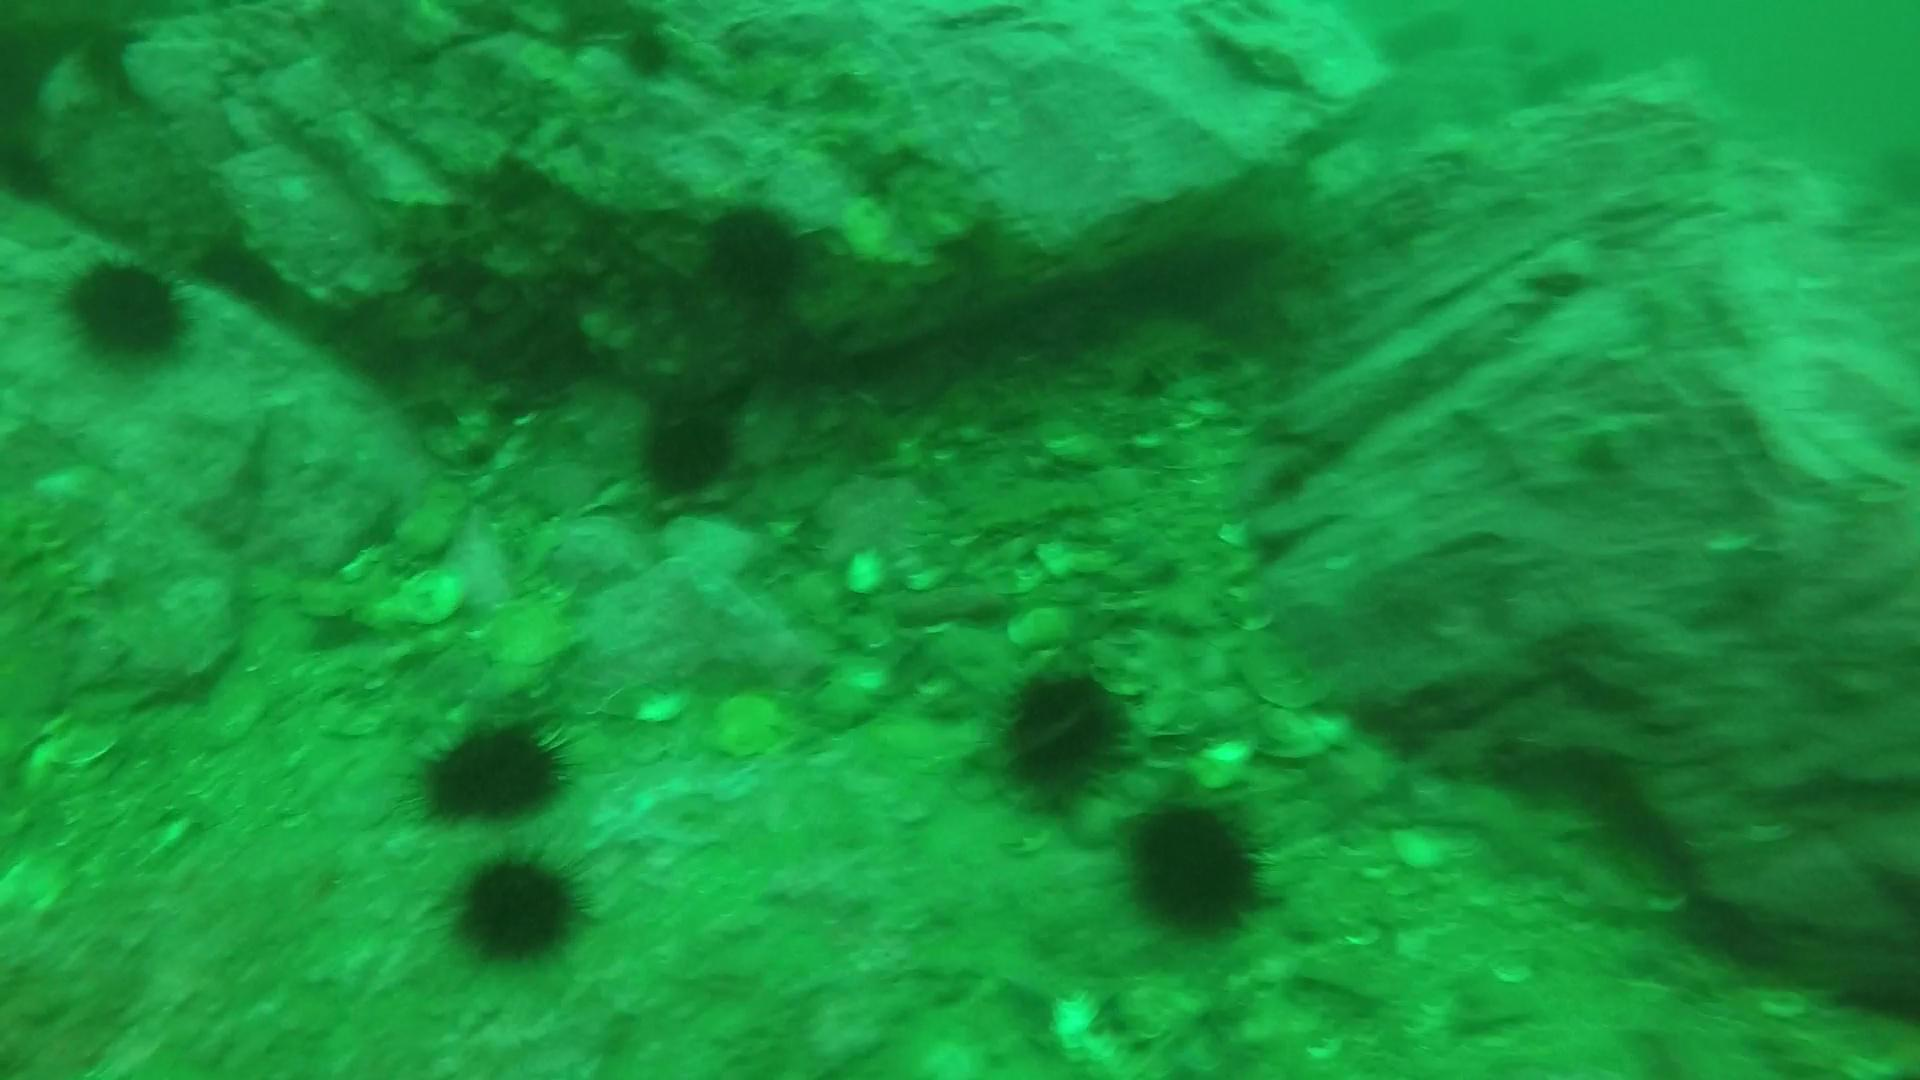urchin: (1116, 799, 1294, 957), (442, 835, 608, 989), (996, 663, 1146, 799), (418, 709, 574, 833), (66, 257, 196, 361), (640, 386, 752, 505), (694, 203, 802, 313)
